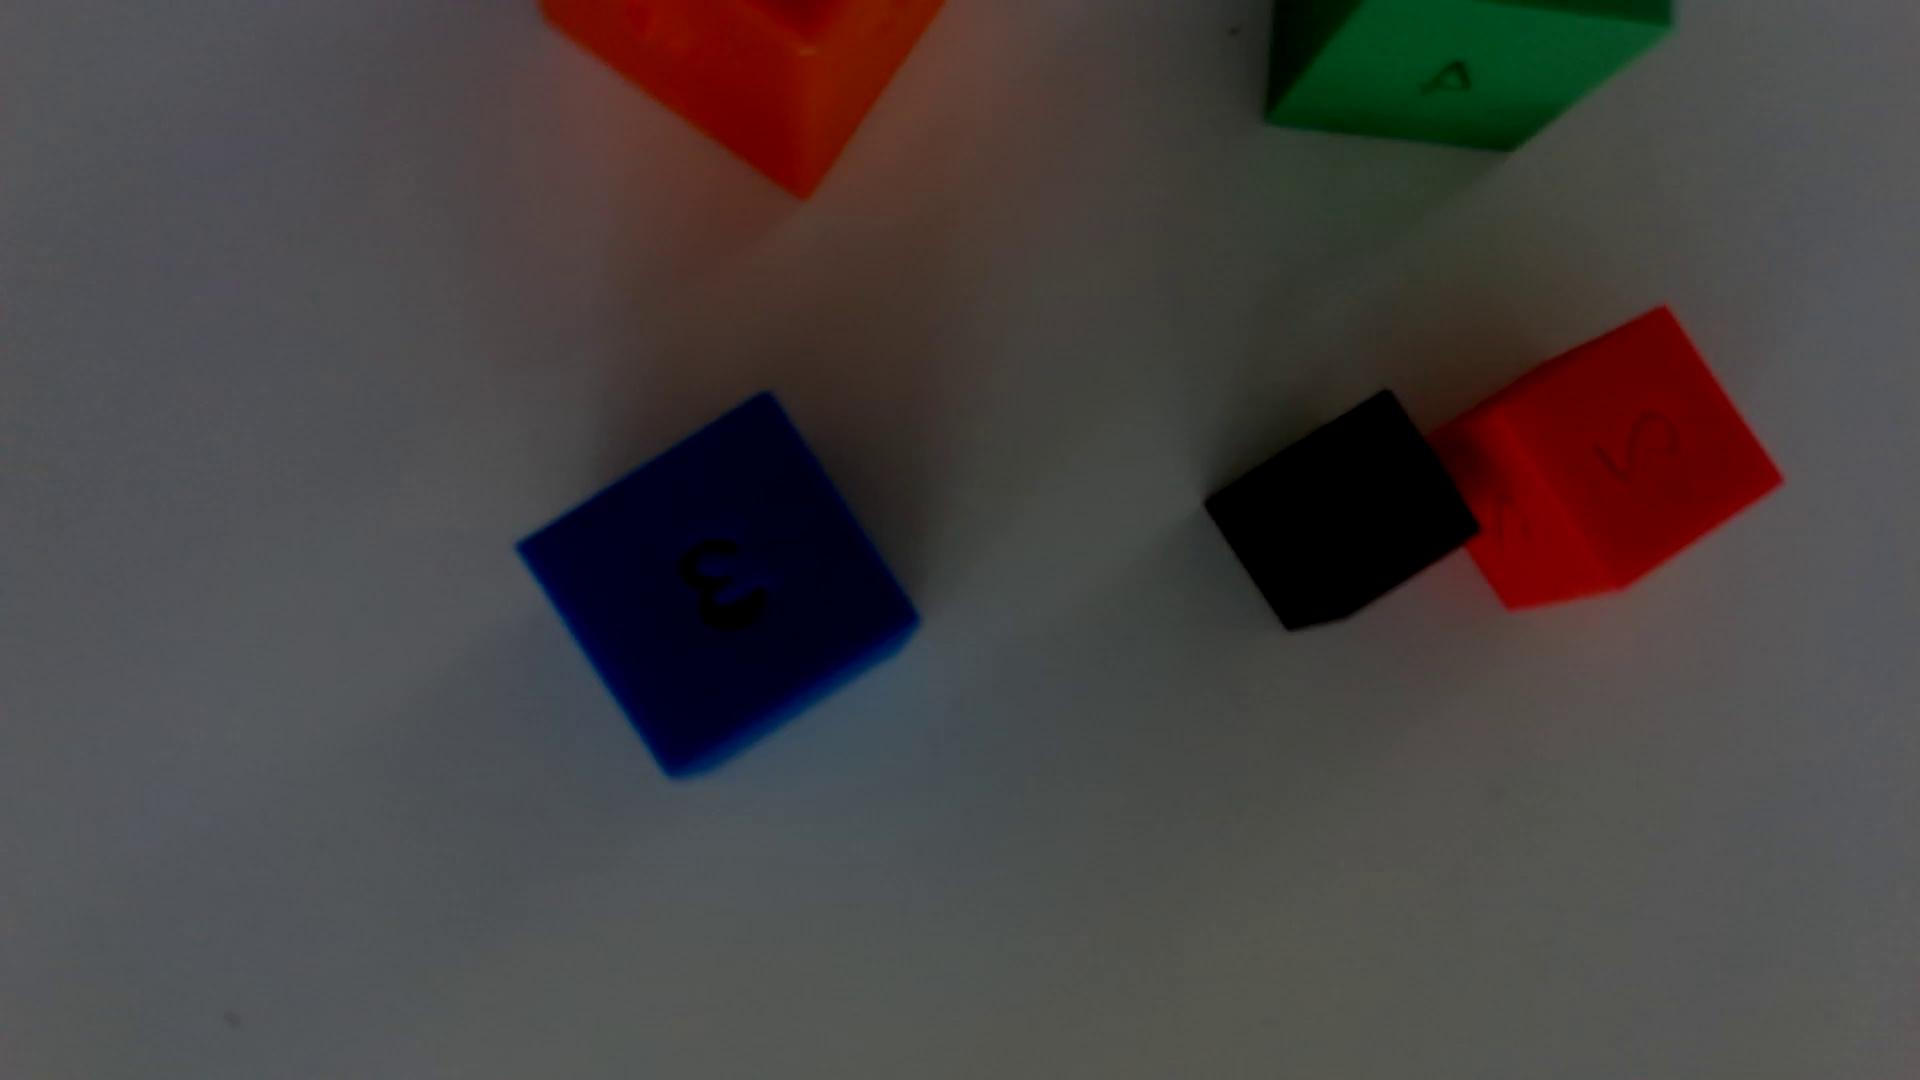black: (1207, 392, 1477, 629)
blue: (520, 394, 918, 775)
green: (1265, 0, 1673, 150)
orange: (539, 0, 942, 196)
red: (1431, 306, 1780, 609)
